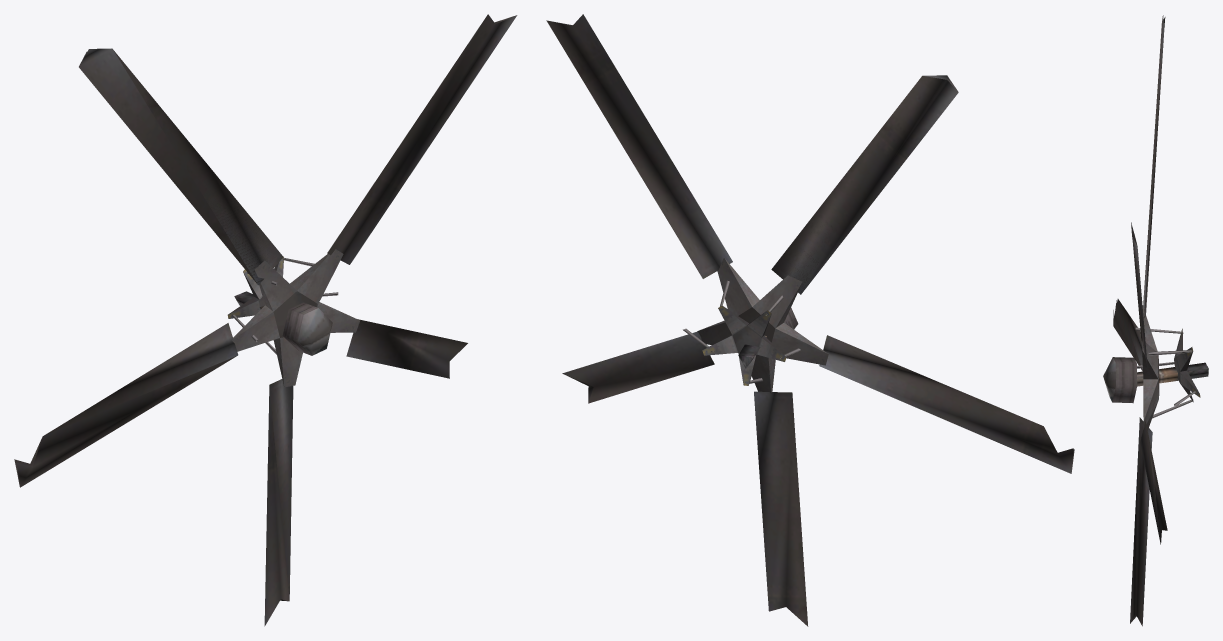
Rendered from vehicle_mi24p_hind_desert_d_piece02_LOD2.obj.
3 views of the same model, side by side, from view 1: azimuth 30°, elevation 25°; view 2: azimuth 150°, elevation 25°; view 3: azimuth 270°, elevation 25° (orthographic). The views are drawn at different scales.
Parts seen in each view (by area): view 1: mtl_mi24p_hind_desert; view 2: mtl_mi24p_hind_desert; view 3: mtl_mi24p_hind_desert.
Boxes of the visible parts, left/top/right/bottom form: mtl_mi24p_hind_desert: left=14, top=14, right=517, bottom=626; mtl_mi24p_hind_desert: left=546, top=14, right=1074, bottom=626; mtl_mi24p_hind_desert: left=1103, top=15, right=1208, bottom=626.
Size of the model in its own units: 517 by 578 by 102.
